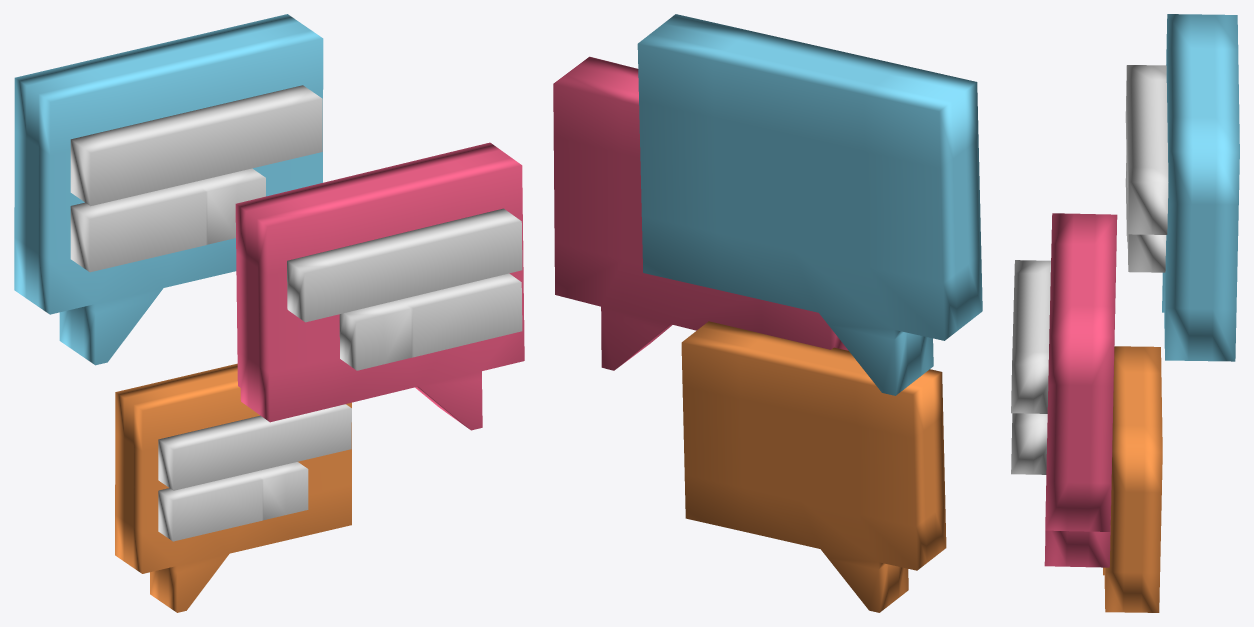
File: communication-bubbles.gltf
3 views of the same model, side by side, from view 1: azimuth 30°, elevation 25°; view 2: azimuth 150°, elevation 25°; view 3: azimuth 270°, elevation 25° (orthographic). The views are drawn at different scales.
Visible parts, largest first — view 1: Cube.003, Cube.004, Cube.007, Cube.001, Cube.005, Cube.002, Cube.006, Cube.008, Cube.009; view 2: Cube.003, Cube.007, Cube.004; view 3: Cube.003, Cube.004, Cube.007, Cube.001, Cube.005, Cube.006, Cube.002.
Boxes of the visible parts, x1,y1,x2,y2 form: Cube.003: (14, 14, 323, 365); Cube.004: (235, 142, 524, 430); Cube.007: (115, 363, 351, 612); Cube.001: (70, 85, 322, 206); Cube.005: (287, 208, 522, 322); Cube.002: (70, 168, 265, 272); Cube.006: (339, 273, 522, 370); Cube.008: (158, 404, 351, 490); Cube.009: (158, 462, 308, 541); Cube.003: (637, 14, 982, 395); Cube.007: (681, 321, 946, 612); Cube.004: (553, 56, 848, 370); Cube.003: (1162, 14, 1239, 361); Cube.004: (1044, 213, 1117, 567); Cube.007: (1103, 346, 1162, 612); Cube.001: (1125, 65, 1168, 234); Cube.005: (1011, 260, 1050, 413); Cube.006: (1011, 413, 1047, 474); Cube.002: (1125, 155, 1166, 272).
Bounding box in the file's own units: 4.52 × 5.3 × 2.15.
